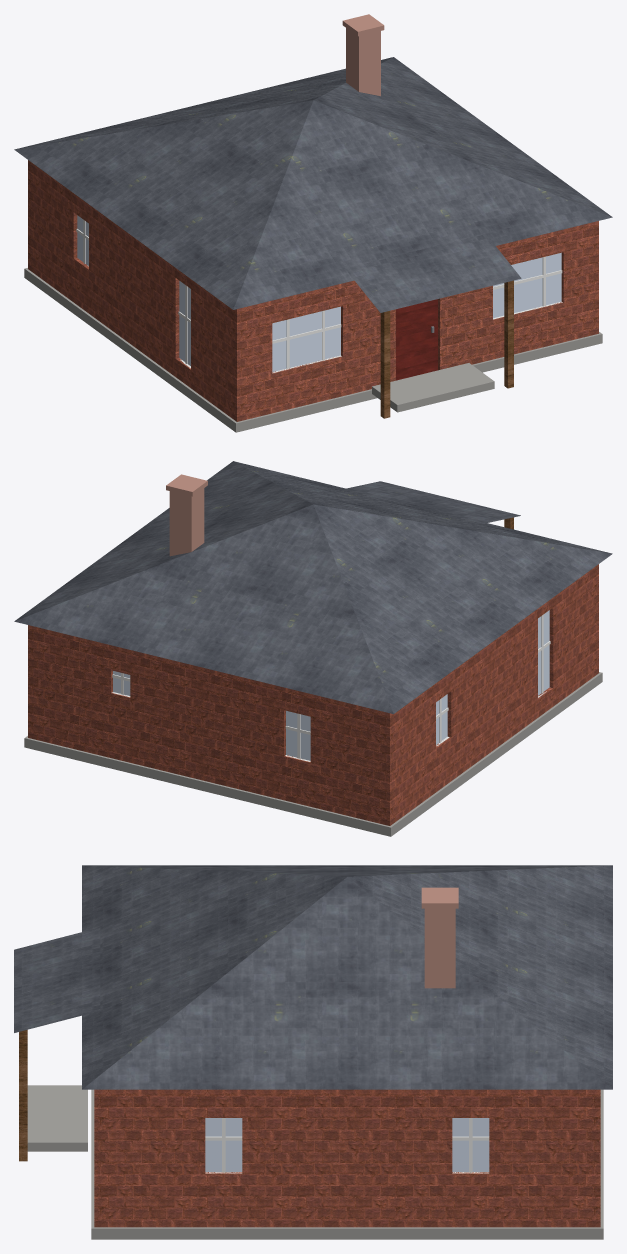
The model's file is house14.glb.
3 renders of one model, top to bottom at view 1: azimuth 30°, elevation 25°; view 2: azimuth 150°, elevation 25°; view 3: azimuth 270°, elevation 25°, orthographic. The views are drawn at different scales.
Parts seen in each view (by area): view 1: roof01, house14, wall01, wall07, wall03, wall05, wall02, wall04, ganek_schodek, wall08, door01, wall28 (+16 smaller); view 2: roof01, house14, wall17, wall23, wall19, wall21, wall20, wall24, wall18, wall22, wall16, wall28 (+10 smaller); view 3: roof01, wall12, wall09, wall11, wall13, wall15, house14, wall10, wall14, wall08, wall16, ganek_schodek (+4 smaller).
Part boxes in pixels (x1,y1,x2,y2): roof01: [14, 57, 612, 312]; house14: [24, 268, 602, 432]; wall01: [221, 302, 263, 421]; wall07: [528, 227, 572, 350]; wall03: [306, 281, 351, 404]; wall05: [438, 288, 484, 370]; wall02: [263, 292, 307, 415]; wall04: [351, 280, 395, 393]; ganek_schodek: [372, 363, 494, 412]; wall08: [572, 221, 598, 339]; door01: [396, 299, 437, 380]; wall28: [119, 227, 145, 354]; roof01: [14, 461, 612, 714]; house14: [24, 672, 602, 836]; wall17: [54, 631, 98, 754]; wall23: [319, 696, 363, 819]; wall19: [142, 653, 186, 776]; wall21: [231, 674, 275, 797]; wall20: [187, 664, 230, 787]; wall24: [363, 706, 405, 825]; wall18: [98, 642, 142, 765]; wall22: [275, 685, 319, 808]; wall16: [28, 625, 54, 743]; wall28: [481, 631, 507, 758]; roof01: [14, 865, 612, 1089]; wall12: [316, 1089, 378, 1227]; wall09: [131, 1089, 192, 1227]; wall11: [255, 1089, 316, 1227]; wall13: [378, 1089, 439, 1227]; wall15: [502, 1089, 563, 1227]; house14: [91, 1089, 603, 1239]; wall10: [193, 1089, 254, 1227]; wall14: [440, 1089, 501, 1227]; wall08: [94, 1089, 131, 1227]; wall16: [563, 1089, 600, 1227]; ganek_schodek: [27, 1085, 87, 1151].
Bounding box in the file's own units: 8.6 × 5.15 × 9.7.
Materials: 19 (5 with a texture image).
